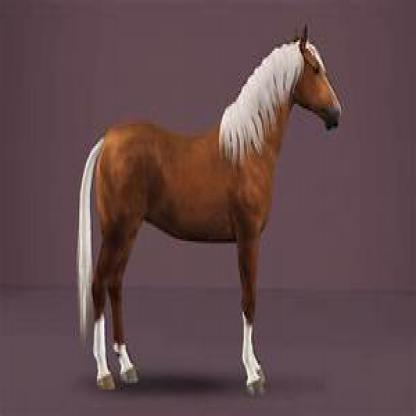horse: (69, 20, 348, 398)
